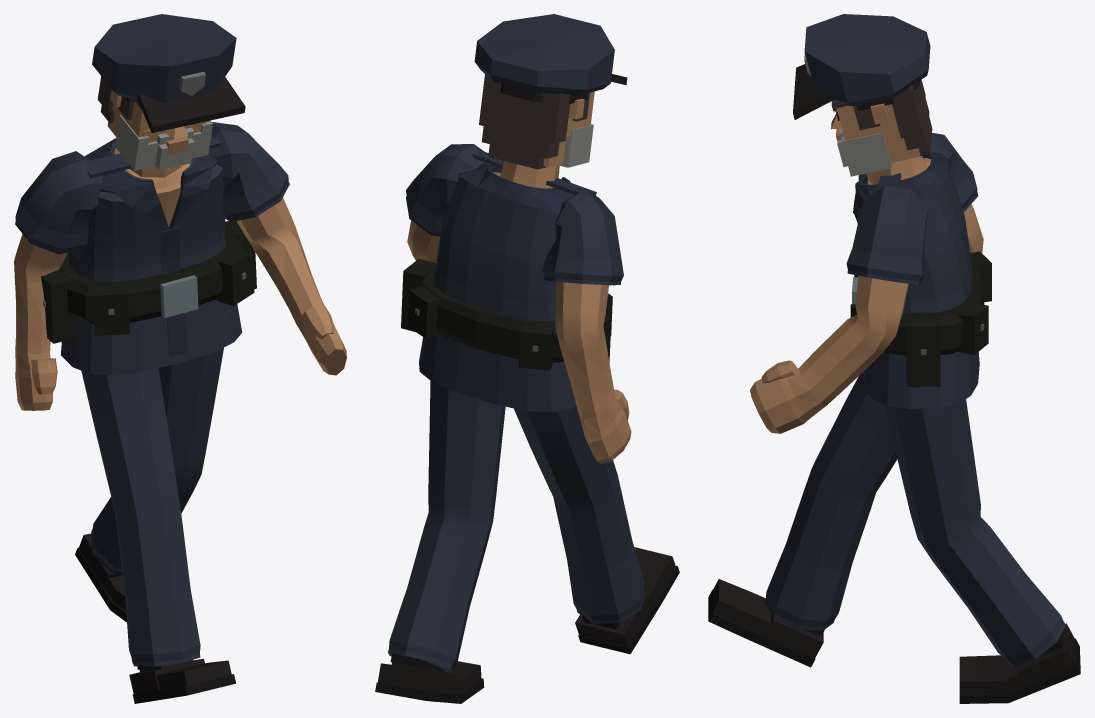
File: police-officer-1cc379__walk4.glb
The picture shows the model from 3 angles, left to right: view 1: azimuth 30°, elevation 25°; view 2: azimuth 150°, elevation 25°; view 3: azimuth 270°, elevation 25°; orthographic projection.
Parts seen in each view (by area): view 1: police-officer-1cc379__walk4; view 2: police-officer-1cc379__walk4; view 3: police-officer-1cc379__walk4.
Part boxes in pixels (x1,y1,x2,y2): police-officer-1cc379__walk4: (14, 14, 346, 703); police-officer-1cc379__walk4: (375, 14, 679, 703); police-officer-1cc379__walk4: (708, 14, 1080, 703).
Size of the model in its own units: 0.6943 by 1.71 by 0.9128.
